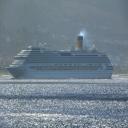cruises: (6, 34, 115, 83)
